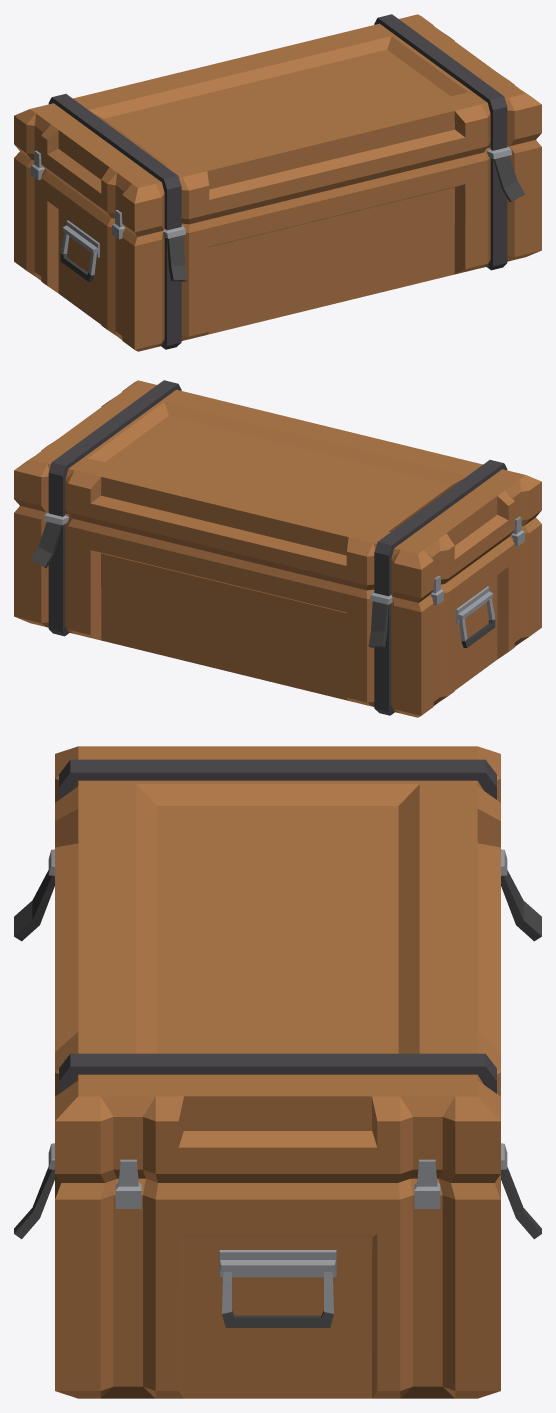
The model's file is Crate.fbx.
The picture shows the model from 3 angles, top to bottom: view 1: azimuth 30°, elevation 25°; view 2: azimuth 150°, elevation 25°; view 3: azimuth 270°, elevation 25°; orthographic projection. The views are drawn at different scales.
Parts seen in each view (by area): view 1: SM_Prop_EmergencyDrop_Crate_01__2_; view 2: SM_Prop_EmergencyDrop_Crate_01__2_; view 3: SM_Prop_EmergencyDrop_Crate_01__2_.
Part boxes in pixels (<box>): SM_Prop_EmergencyDrop_Crate_01__2_: <box>14,14,541,351</box>; SM_Prop_EmergencyDrop_Crate_01__2_: <box>14,380,541,717</box>; SM_Prop_EmergencyDrop_Crate_01__2_: <box>14,746,541,1398</box>.
Size of the model in its own units: 131 by 52.55 by 79.67.
